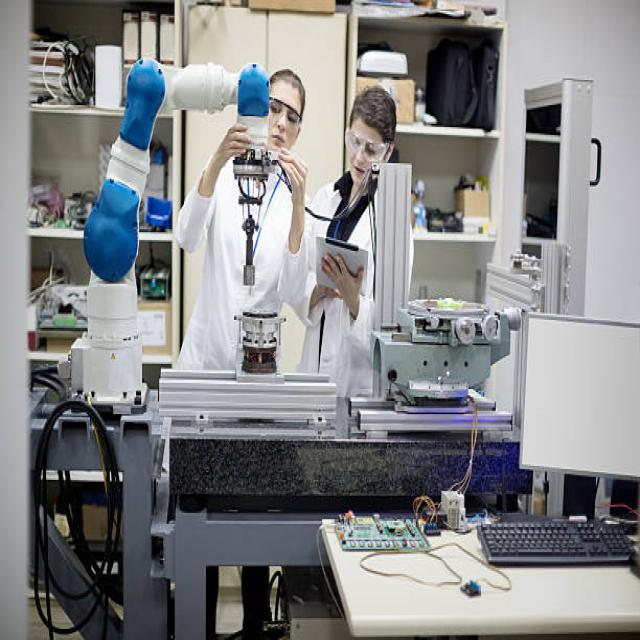Robotic-arm: (75, 53, 276, 400)
